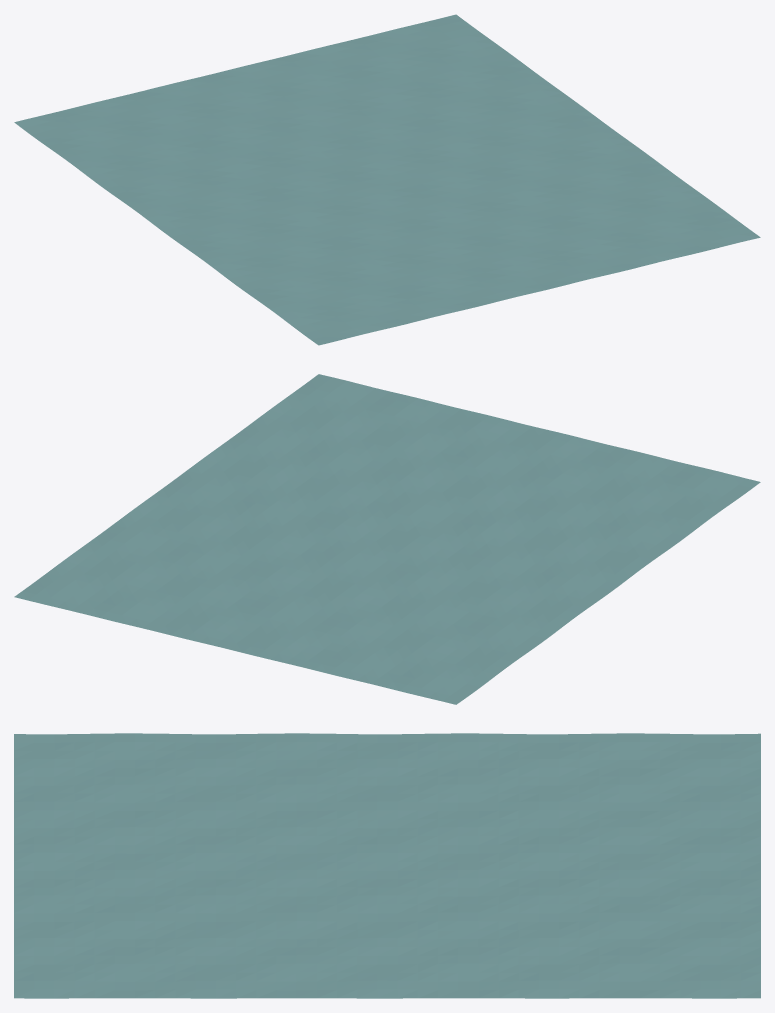
The model's file is seabed.glb.
3 renders of one model, top to bottom at view 1: azimuth 30°, elevation 25°; view 2: azimuth 150°, elevation 25°; view 3: azimuth 270°, elevation 25°, orthographic. The views are drawn at different scales.
Parts seen in each view (by area): view 1: seabed; view 2: seabed; view 3: seabed.
Boxes of the visible parts, x1=… form: seabed: x1=14, y1=14, x2=760, y2=345; seabed: x1=14, y1=374, x2=760, y2=704; seabed: x1=14, y1=733, x2=760, y2=998.
Bounding box in the file's own units: 124 × 0.259 × 148.
